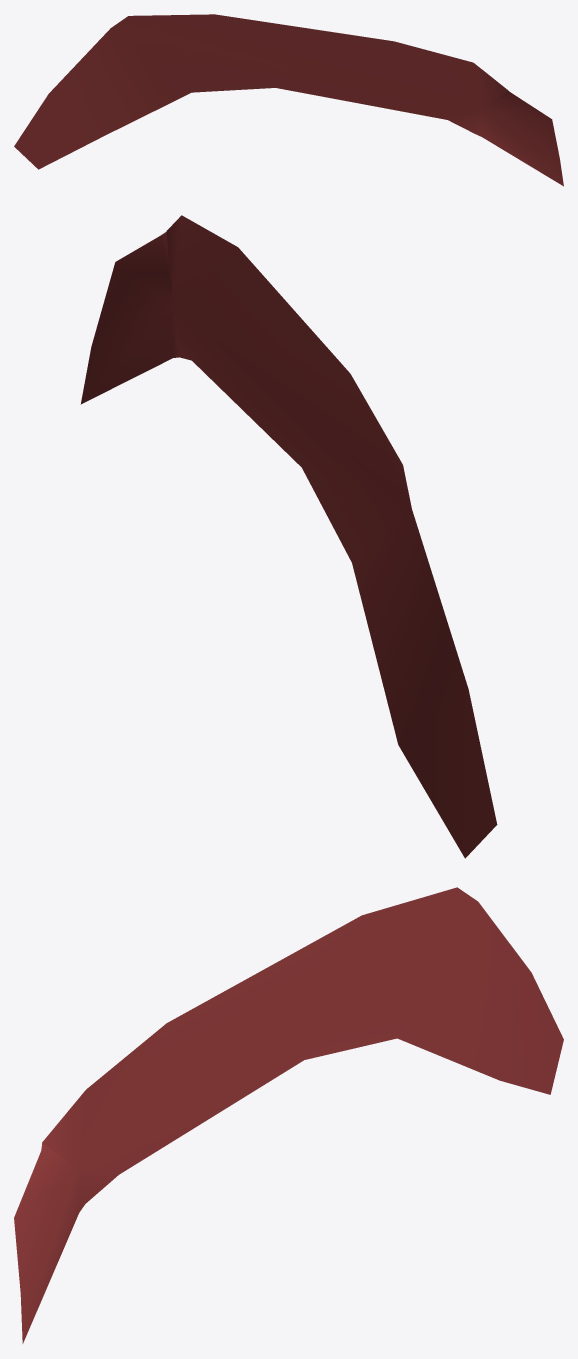
Rendered from levator-anguli-oris-or.glb.
3 renders of one model, top to bottom at view 1: azimuth 30°, elevation 25°; view 2: azimuth 150°, elevation 25°; view 3: azimuth 270°, elevation 25°, orthographic. The views are drawn at different scales.
Visible parts, largest first — view 1: Levator anguli oris.or; view 2: Levator anguli oris.or; view 3: Levator anguli oris.or.
Boxes of the visible parts, x1,y1,x2,y2 form: Levator anguli oris.or: [14, 14, 563, 186]; Levator anguli oris.or: [80, 215, 497, 858]; Levator anguli oris.or: [14, 887, 563, 1343].
Bounding box in the file's own units: 0.013 × 0.00556 × 0.0103.
